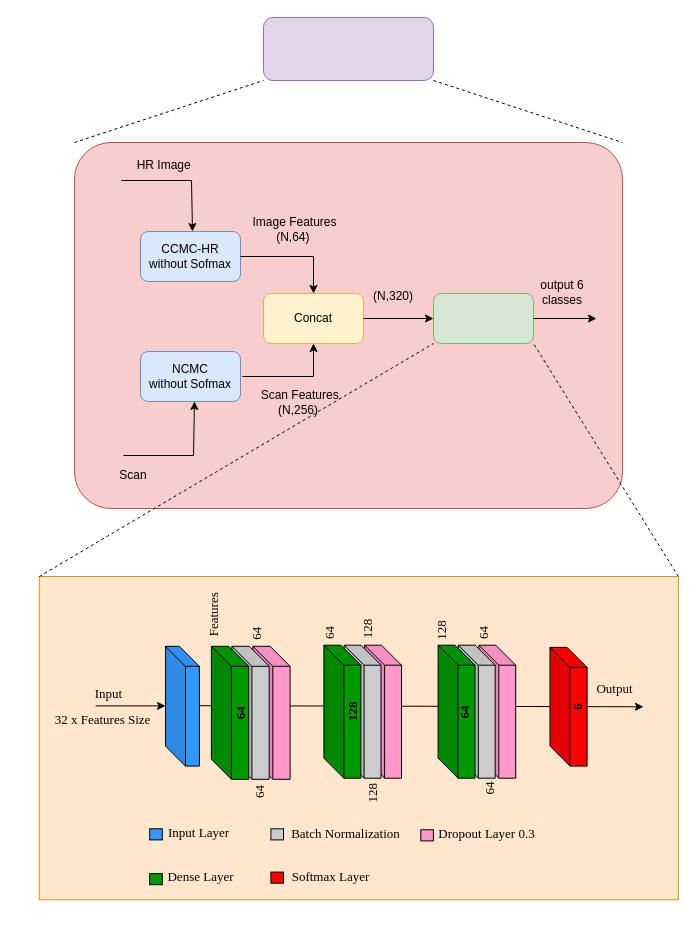
This 697x925 diagram has some shape labels left out. Here are the shapes that lost their labels. From the top down, the centre of each, then its label:
point (348, 48): NCFCMC
point (483, 318): CMFC
